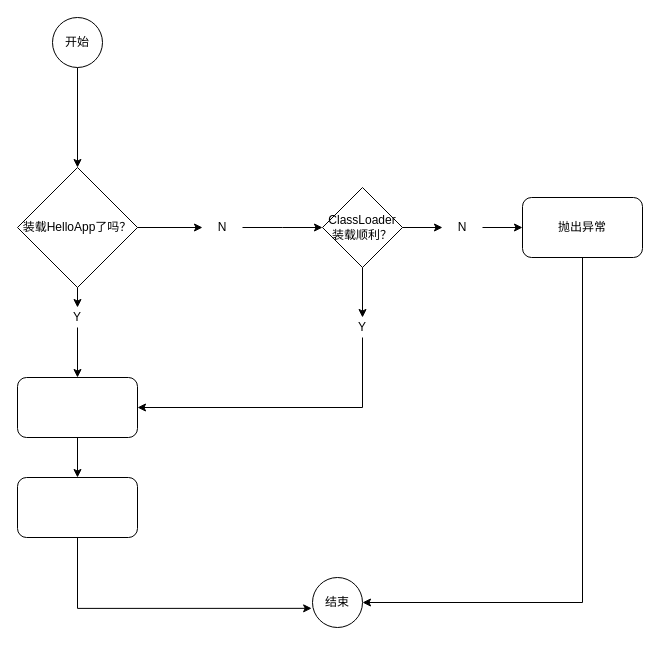
This 660x645 diagram has some shape labels left out. The shapes that lost their labels are listed below. From the top down, each one's centre as x and y in pixels, then its label:
At (x=77, y=407): "链接".
At (x=77, y=507): "初始化HelloApp".
